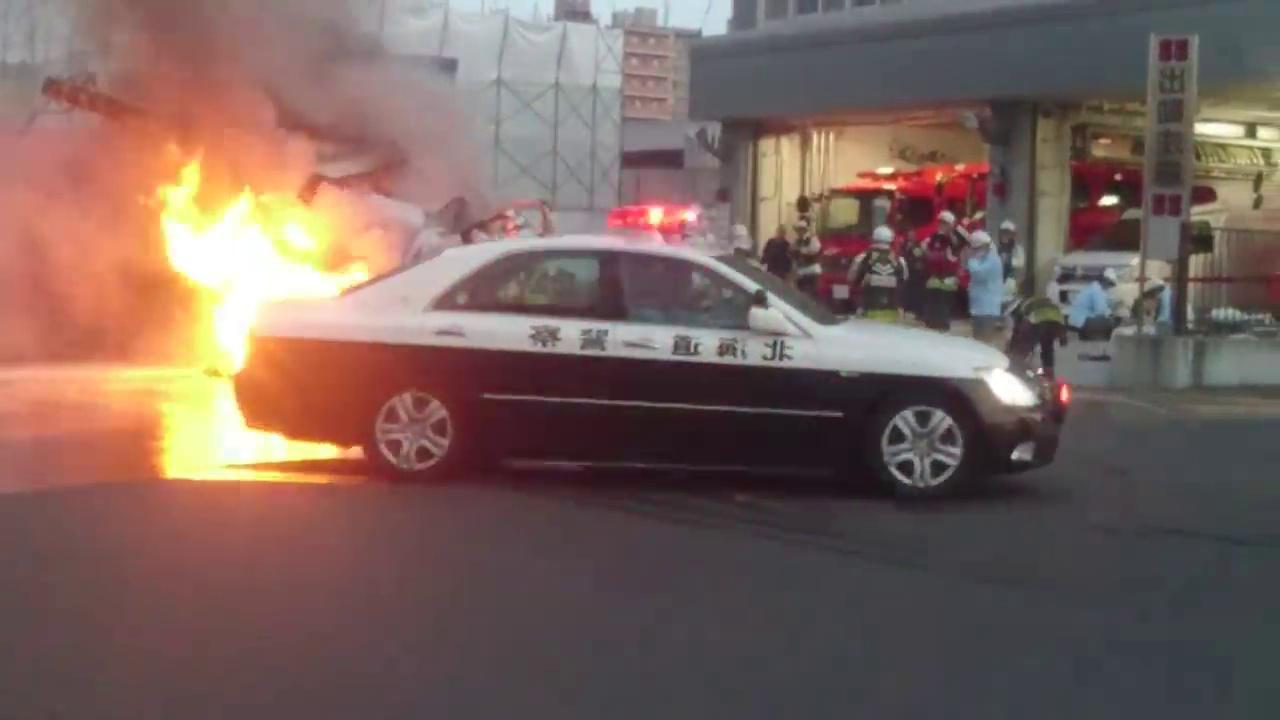Fire: (152, 163, 375, 477)
